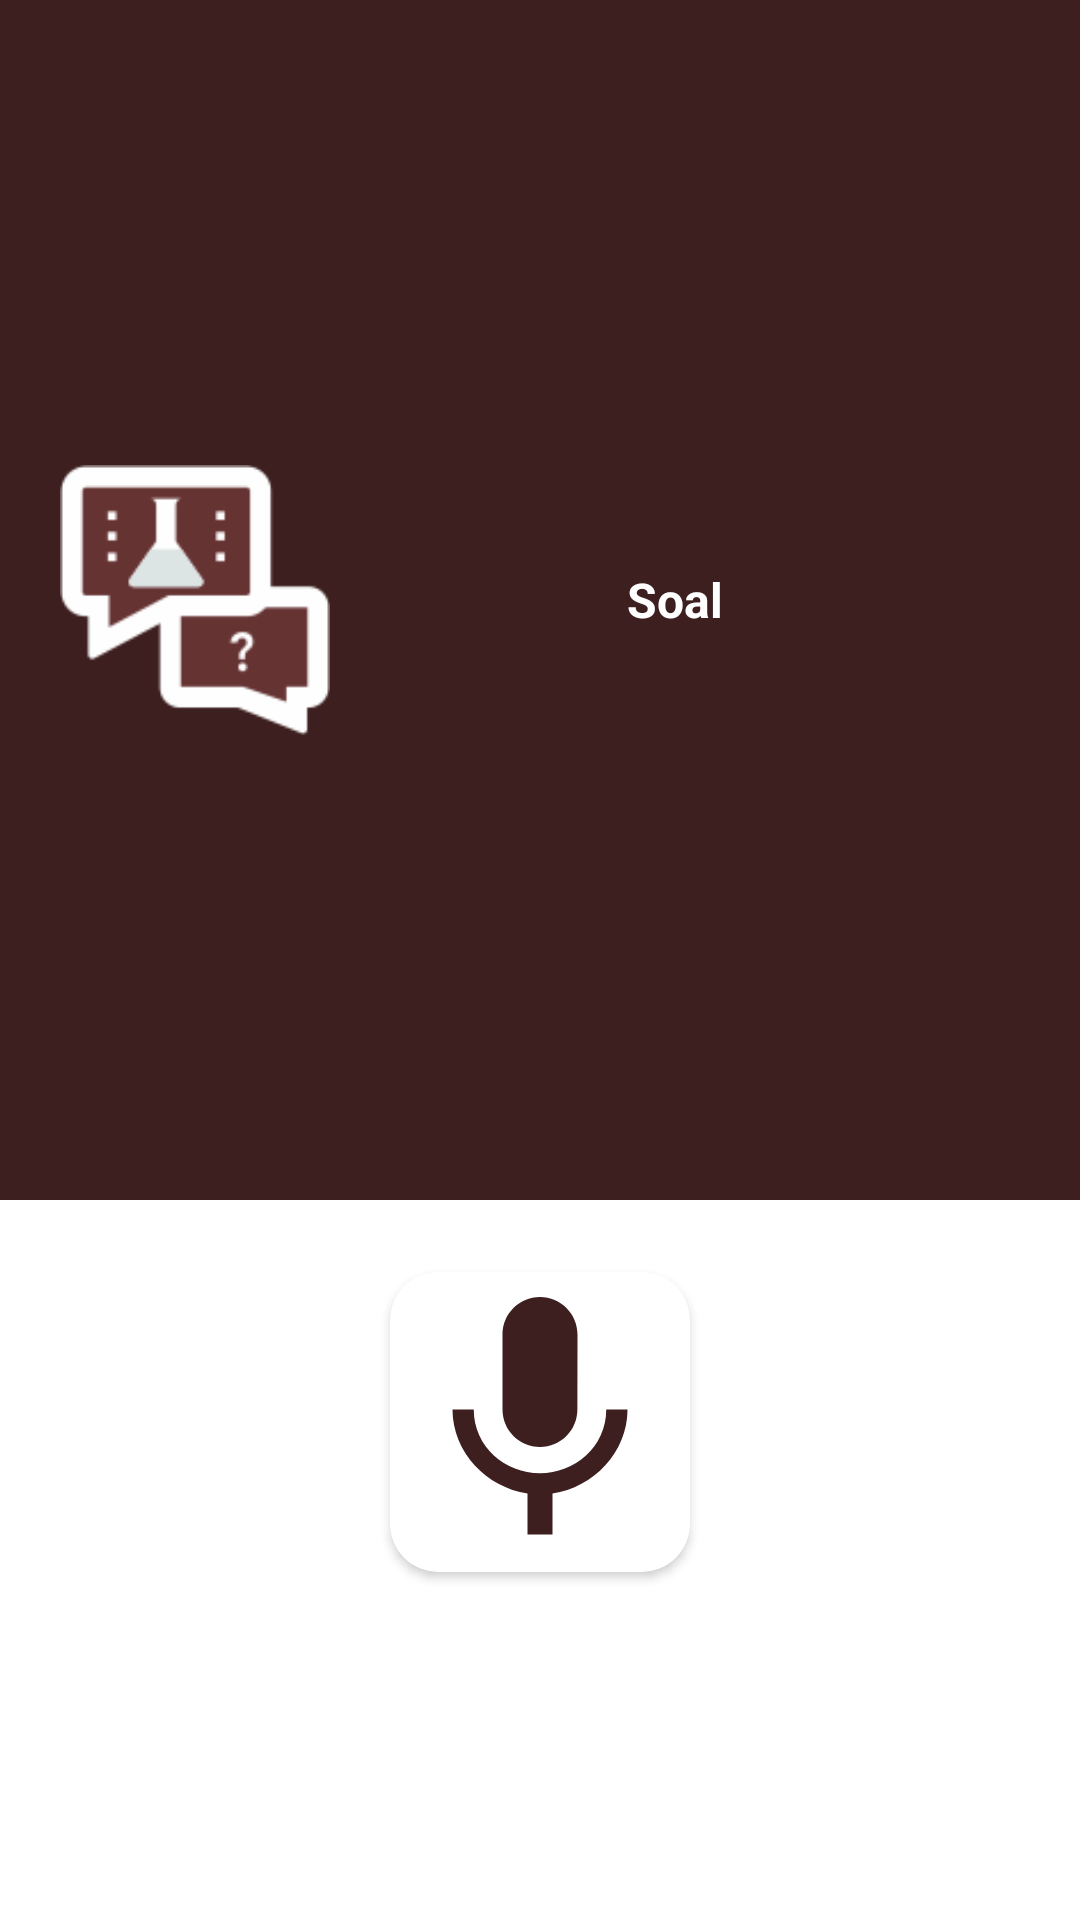

Icons on this 1080*1920 Android screen, each with the point to tap as [x,y]:
mic: [540,1434]
quiz thumbnail: [195,600]
